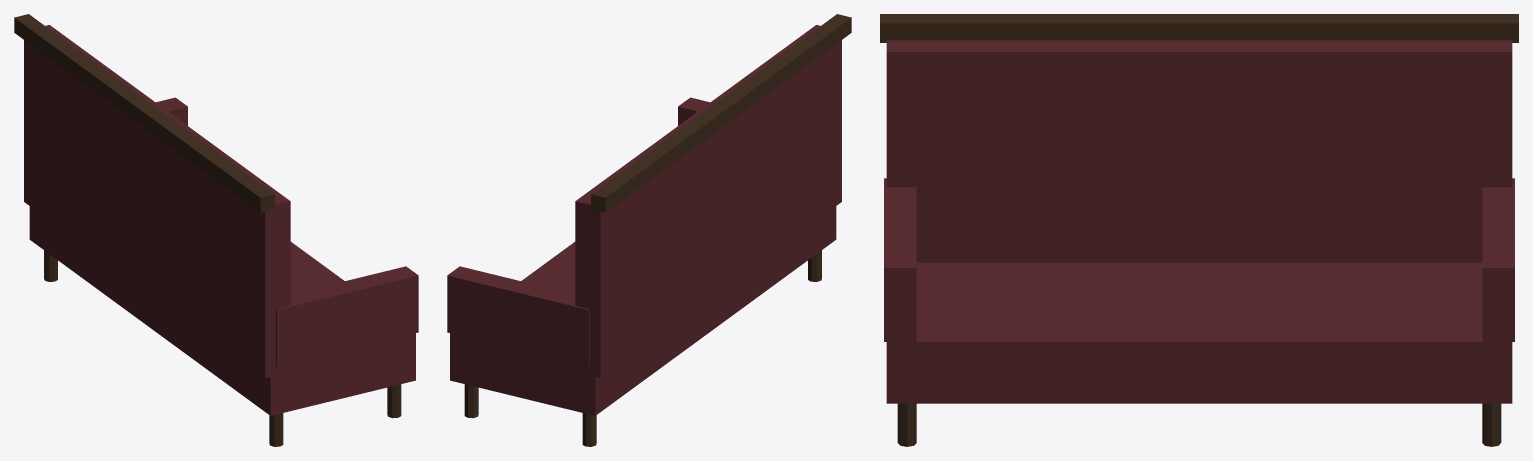
The model's file is SM_Mob_Kanepe.fbx.
The picture shows the model from 3 angles, left to right: view 1: azimuth 30°, elevation 25°; view 2: azimuth 150°, elevation 25°; view 3: azimuth 270°, elevation 25°; orthographic projection. The views are drawn at different scales.
Parts seen in each view (by area): view 1: Mob_Kanepe; view 2: Mob_Kanepe; view 3: Mob_Kanepe.
Boxes of the visible parts, <box> form: Mob_Kanepe: <box>14,14,418,446</box>; Mob_Kanepe: <box>447,14,851,446</box>; Mob_Kanepe: <box>880,14,1518,446</box>.
Bounding box in the file's own units: 88 × 137 × 235.
